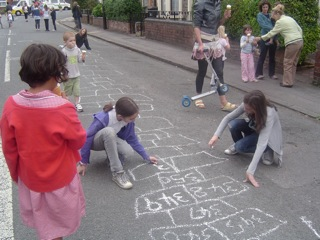Person: (4, 42, 96, 233), (210, 88, 290, 187), (82, 98, 156, 191)
